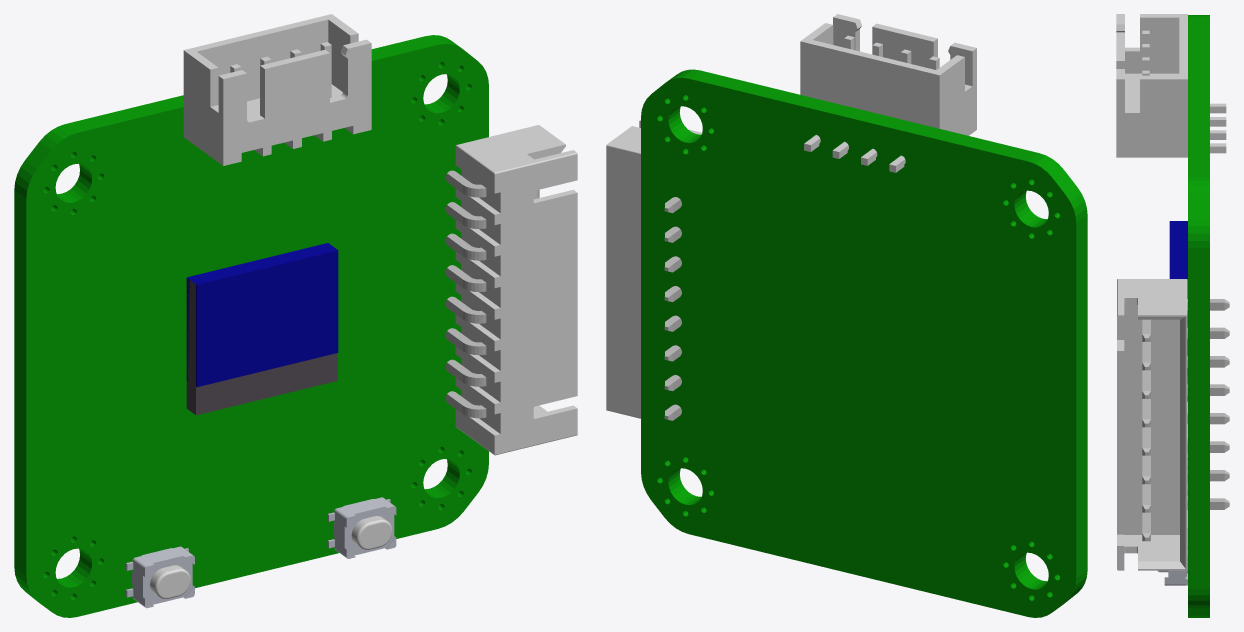
File: ZDT_X42_L40Motor_STEP__ZDT_X42_V1_2_PCB_step_STEP_1.3dxml.glb
The picture shows the model from 3 angles, left to right: view 1: azimuth 30°, elevation 25°; view 2: azimuth 150°, elevation 25°; view 3: azimuth 270°, elevation 25°; orthographic projection. The views are drawn at different scales.
Visible parts, largest first — view 1: world; view 2: world; view 3: world.
Part boxes in pixels (left/top/right/bottom): world: left=14, top=14, right=577, bottom=617; world: left=606, top=14, right=1087, bottom=617; world: left=1116, top=14, right=1229, bottom=617.
Size of the model in its own units: 0.0432 by 0.0436 by 0.00915.
